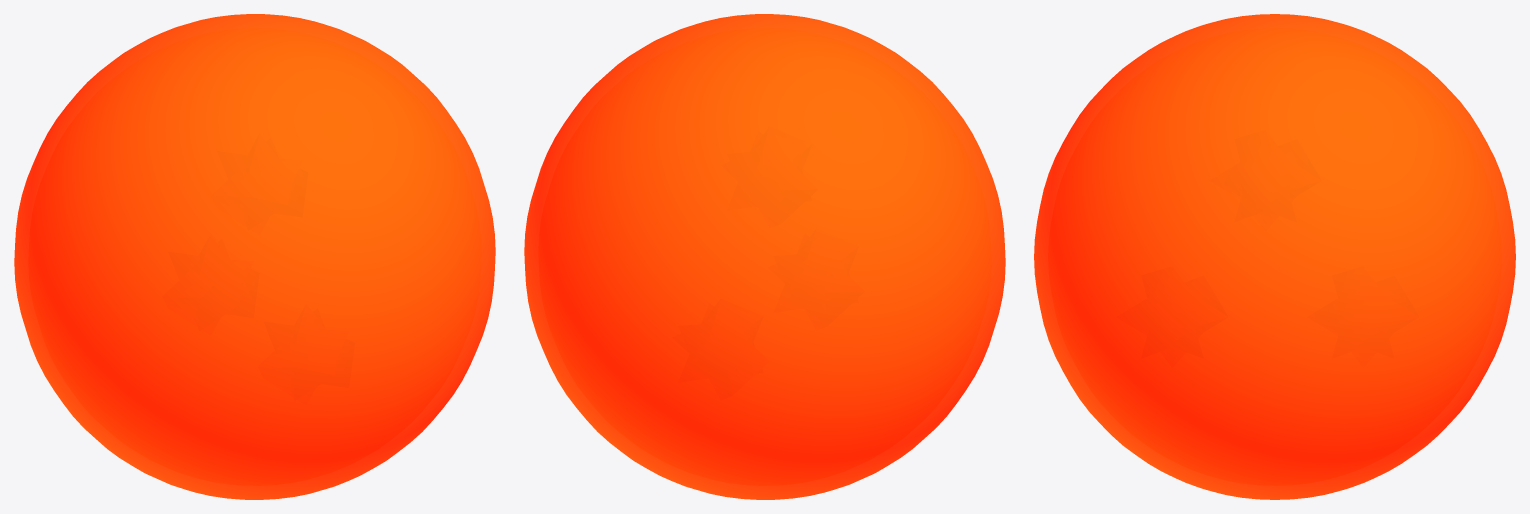
File: dragon ball 3.glb
3 views of the same model, side by side, from view 1: azimuth 30°, elevation 25°; view 2: azimuth 150°, elevation 25°; view 3: azimuth 270°, elevation 25° (orthographic).
Visible parts, largest first — view 1: Dragon ball 3; view 2: Dragon ball 3; view 3: Dragon ball 3.
Boxes of the visible parts, box(x1,y1,x2,y2) form: Dragon ball 3: box(14, 14, 495, 499); Dragon ball 3: box(524, 14, 1005, 499); Dragon ball 3: box(1034, 14, 1515, 499).
Size of the model in its own units: 4.28 by 4.34 by 4.28.
